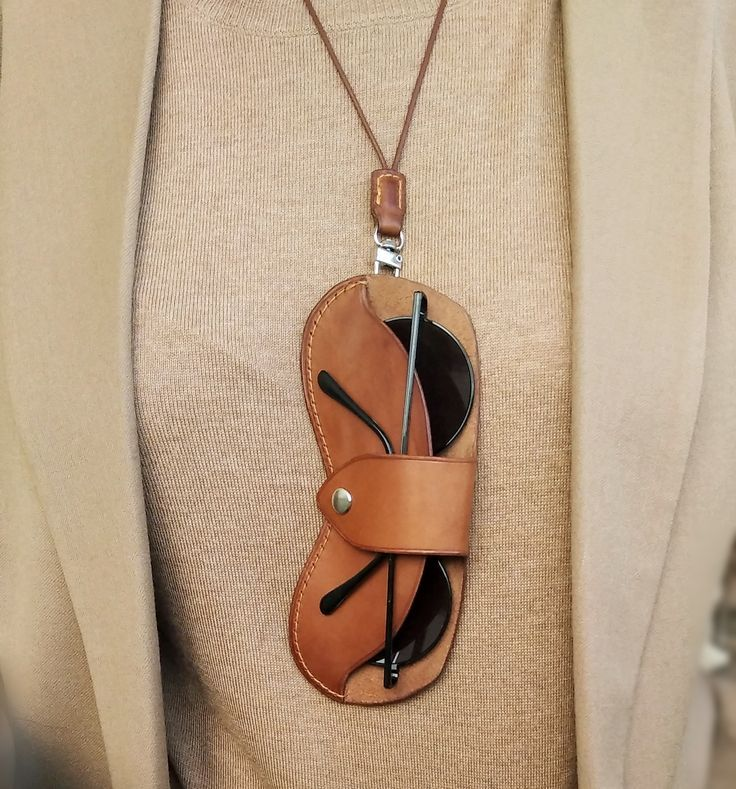cuero: (286, 168, 483, 709)
